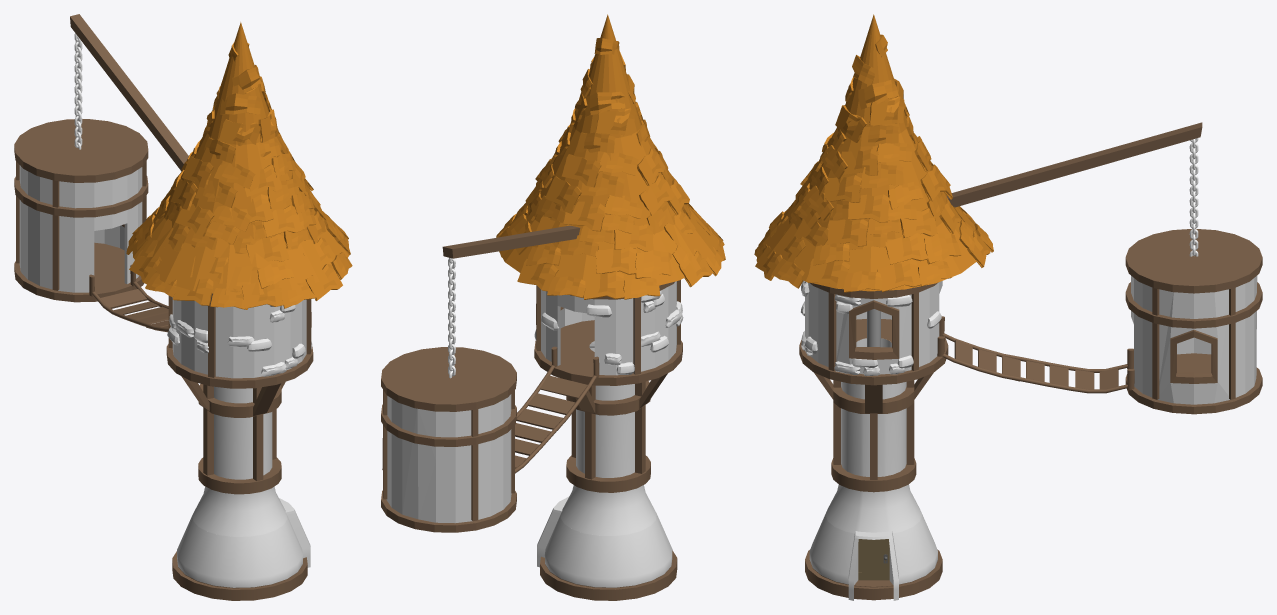
The model's file is TowerF.fbx.
3 views of the same model, side by side, from view 1: azimuth 30°, elevation 25°; view 2: azimuth 150°, elevation 25°; view 3: azimuth 270°, elevation 25° (orthographic).
Parts seen in each view (by area): view 1: Roof_Plates, polySurface1, Roof_Bottom, pCylinder6, pCylinder11, pCylinder8, pCube3, Bridge, group2_Brick_L5, pCylinder16, pCylinder14, pCylinder15 (+3 smaller); view 2: polySurface1, Roof_Plates, pCylinder6, Roof_Bottom, pCylinder11, pCylinder8, Bridge, pCylinder16, pCube3, group2_Brick_L5, pCylinder15, pCylinder14 (+3 smaller); view 3: Roof_Plates, polySurface1, pCylinder6, pCylinder11, Roof_Bottom, pCylinder8, Bridge, pCube3, group2_Brick_L5, pCylinder14, pCylinder16, pCylinder15 (+2 smaller).
Boxes of the visible parts, x1=… form: Roof_Plates: x1=126, y1=42, x2=352, y2=309; polySurface1: x1=14, y1=119, x2=148, y2=302; Roof_Bottom: x1=132, y1=22, x2=349, y2=295; pCylinder6: x1=166, y1=293, x2=313, y2=388; pCylinder11: x1=192, y1=386, x2=295, y2=536; pCylinder8: x1=177, y1=511, x2=310, y2=587; pCube3: x1=70, y1=14, x2=188, y2=171; Bridge: x1=89, y1=264, x2=168, y2=332; group2_Brick_L5: x1=167, y1=297, x2=312, y2=376; pCylinder16: x1=172, y1=551, x2=307, y2=600; pCylinder14: x1=181, y1=376, x2=285, y2=417; pCylinder15: x1=198, y1=457, x2=281, y2=494; polySurface1: x1=381, y1=347, x2=516, y2=532; Roof_Plates: x1=496, y1=38, x2=725, y2=299; pCylinder6: x1=534, y1=280, x2=682, y2=385; Roof_Bottom: x1=499, y1=14, x2=718, y2=287; pCylinder11: x1=552, y1=341, x2=656, y2=535; pCylinder8: x1=537, y1=510, x2=672, y2=587; Bridge: x1=515, y1=346, x2=599, y2=473; pCylinder16: x1=540, y1=550, x2=677, y2=600; pCube3: x1=442, y1=225, x2=580, y2=258; group2_Brick_L5: x1=534, y1=290, x2=683, y2=374; pCylinder15: x1=566, y1=455, x2=650, y2=492; pCylinder14: x1=566, y1=373, x2=667, y2=415; Roof_Plates: x1=754, y1=34, x2=993, y2=292; polySurface1: x1=1125, y1=228, x2=1262, y2=414; pCylinder6: x1=799, y1=281, x2=948, y2=385; pCylinder11: x1=825, y1=338, x2=921, y2=539; Roof_Bottom: x1=763, y1=14, x2=977, y2=291; pCylinder8: x1=809, y1=511, x2=937, y2=600; Bridge: x1=937, y1=316, x2=1134, y2=393; pCube3: x1=946, y1=122, x2=1202, y2=207; group2_Brick_L5: x1=801, y1=280, x2=941, y2=375; pCylinder14: x1=814, y1=372, x2=933, y2=413; pCylinder16: x1=805, y1=549, x2=942, y2=600; pCylinder15: x1=831, y1=458, x2=916, y2=492.
Size of the model in its own units: 437 by 1164 by 962.
